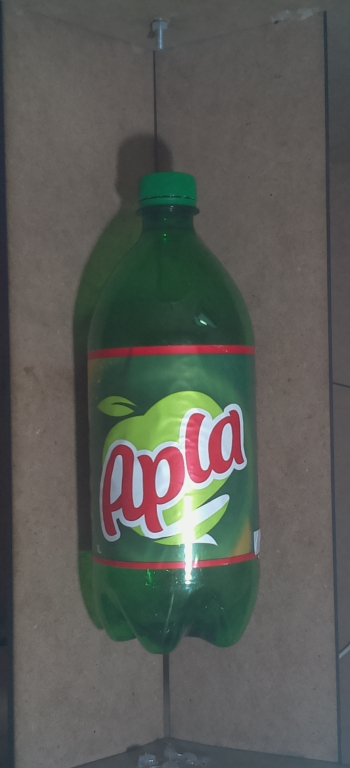Bouteille_1L: (77, 163, 274, 664)
